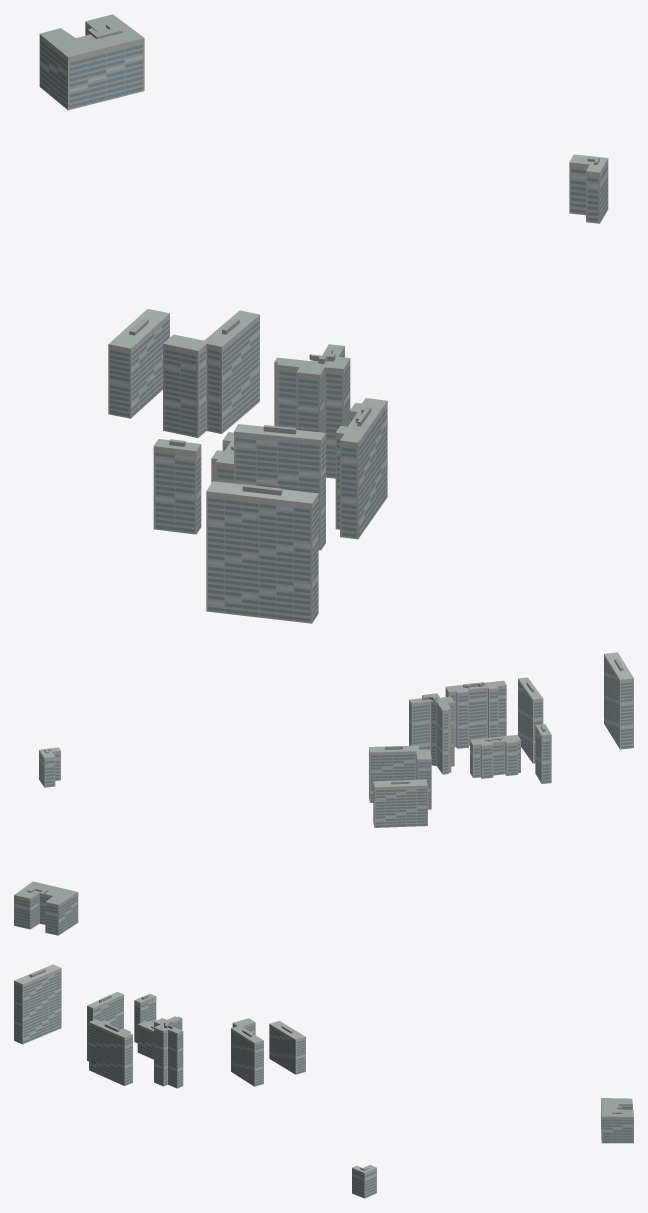
The model's file is apt-a10027817.glb.
The picture shows the model from 3 angles, top to bottom: view 1: azimuth 30°, elevation 25°; view 2: azimuth 150°, elevation 25°; view 3: azimuth 270°, elevation 25°; orthographic projection. The views are drawn at different scales.
Visible parts, largest first — view 1: apt-a10027817; view 2: apt-a10027817; view 3: apt-a10027817.
Boxes of the visible parts, bbox=[...] form: apt-a10027817: bbox=[39, 14, 608, 623]; apt-a10027817: bbox=[14, 652, 633, 935]; apt-a10027817: bbox=[14, 964, 633, 1198].
Size of the model in its own units: 377 by 63 by 567.
